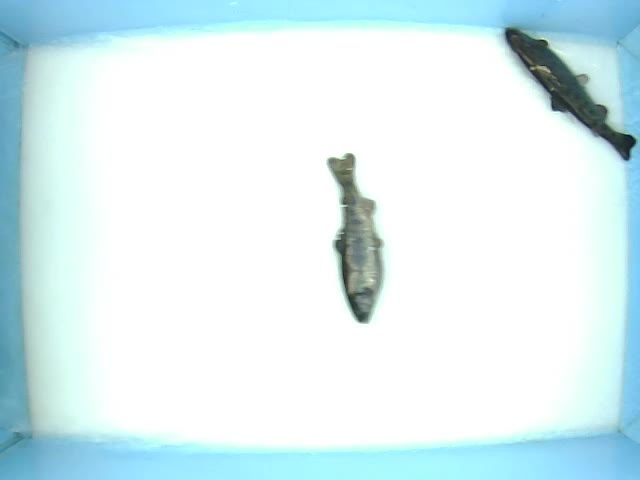fish: (486, 25, 639, 170), (309, 138, 399, 335)
